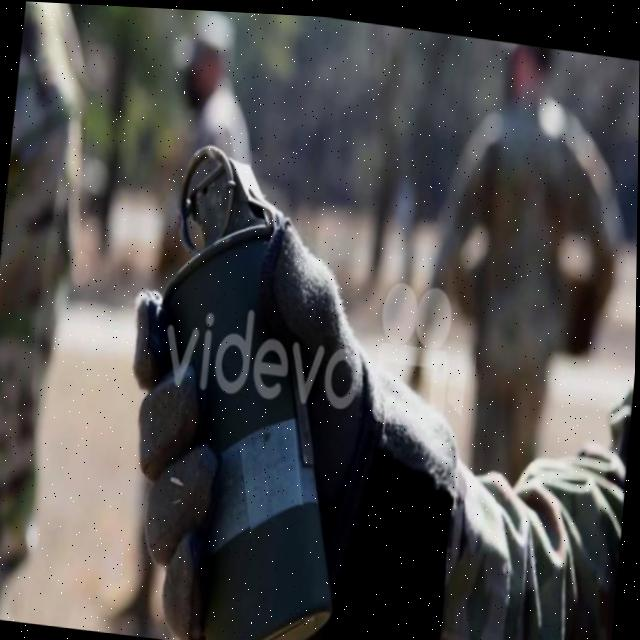grenade: (120, 128, 386, 640)
